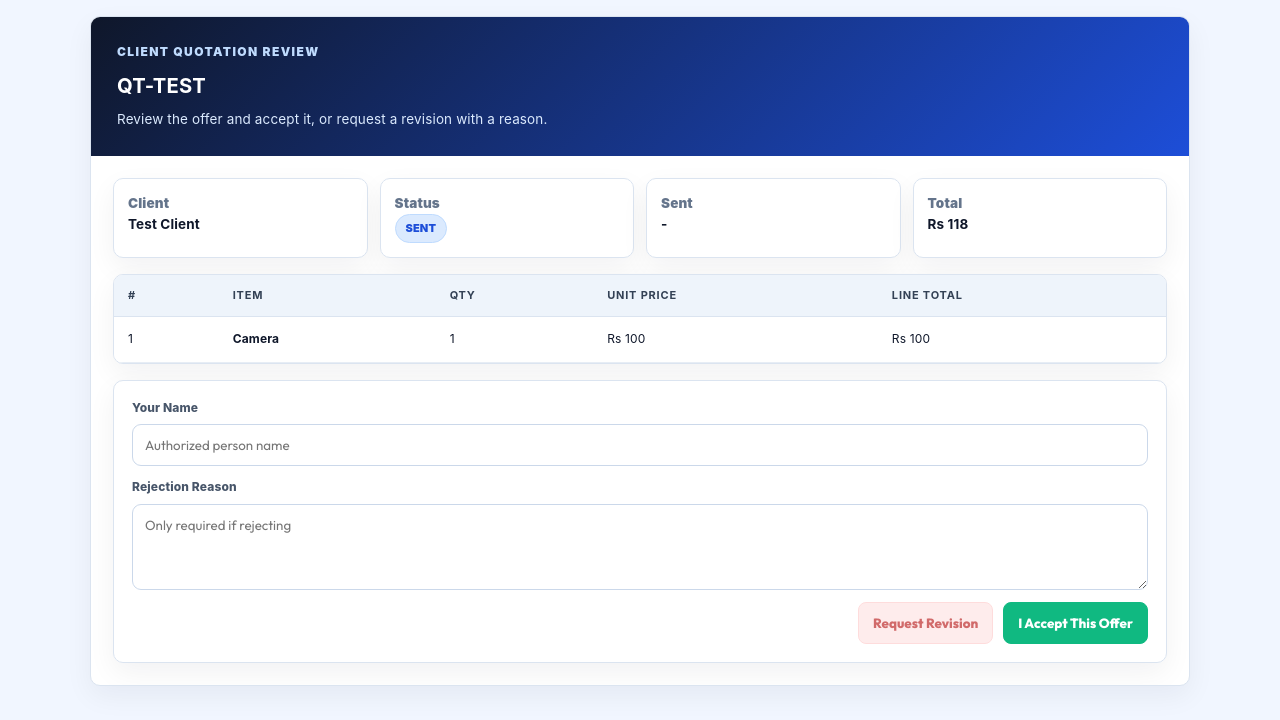
Test case: client approval page › submits approval to the backend and shows a closed decision
What coordinates should you click on to do the following:
click the button "I Accept This Offer"
I would click on:
 (1076, 623)
Its box is [1003, 602, 1148, 644].
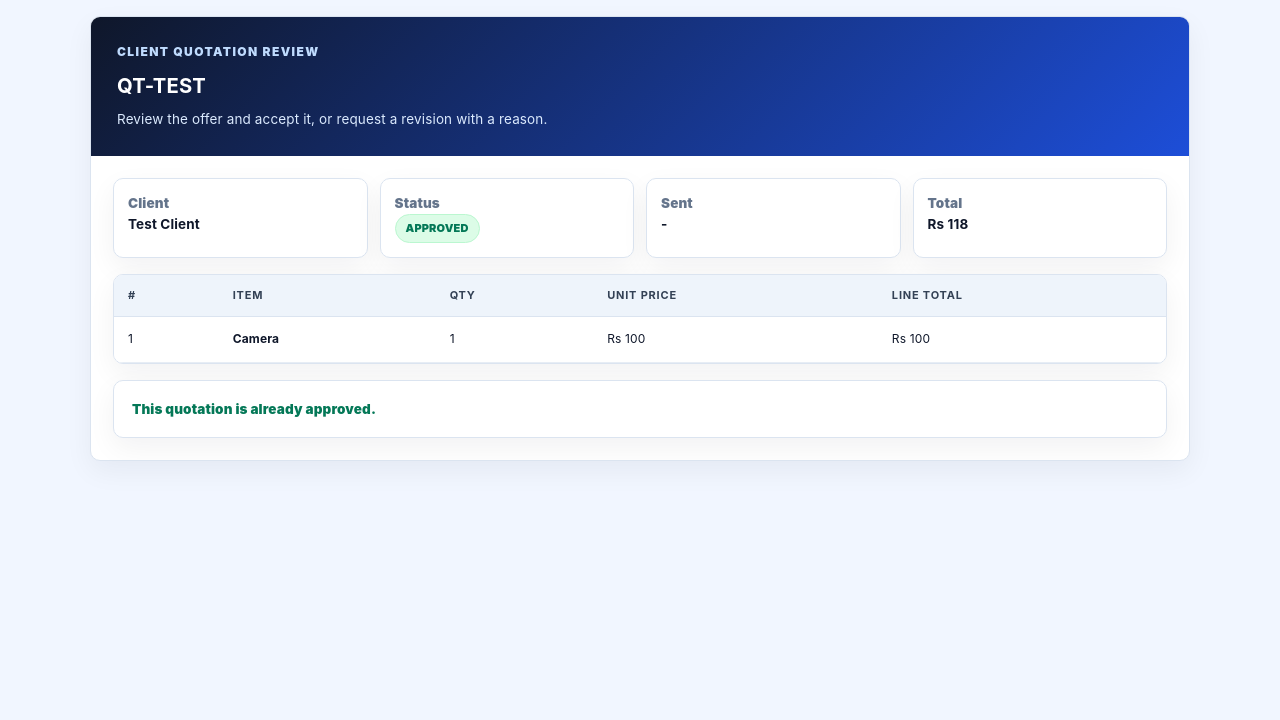
Expected: the text "This quotation is already approved." is shown, [113, 380, 1167, 438]
Expected: the button "I Accept This Offer" is gone
